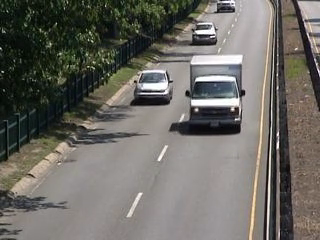car: (126, 67, 176, 107), (191, 19, 220, 48), (214, 1, 238, 15)
truck: (186, 52, 249, 134)
